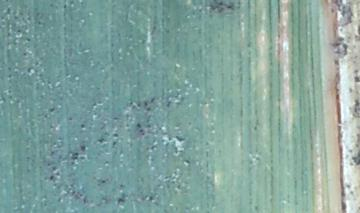tarspot: (79, 141, 88, 152), (141, 99, 150, 109), (117, 196, 127, 205), (78, 122, 87, 131), (98, 135, 107, 144), (134, 122, 143, 130), (72, 150, 78, 161), (101, 178, 108, 185), (48, 175, 55, 181)
